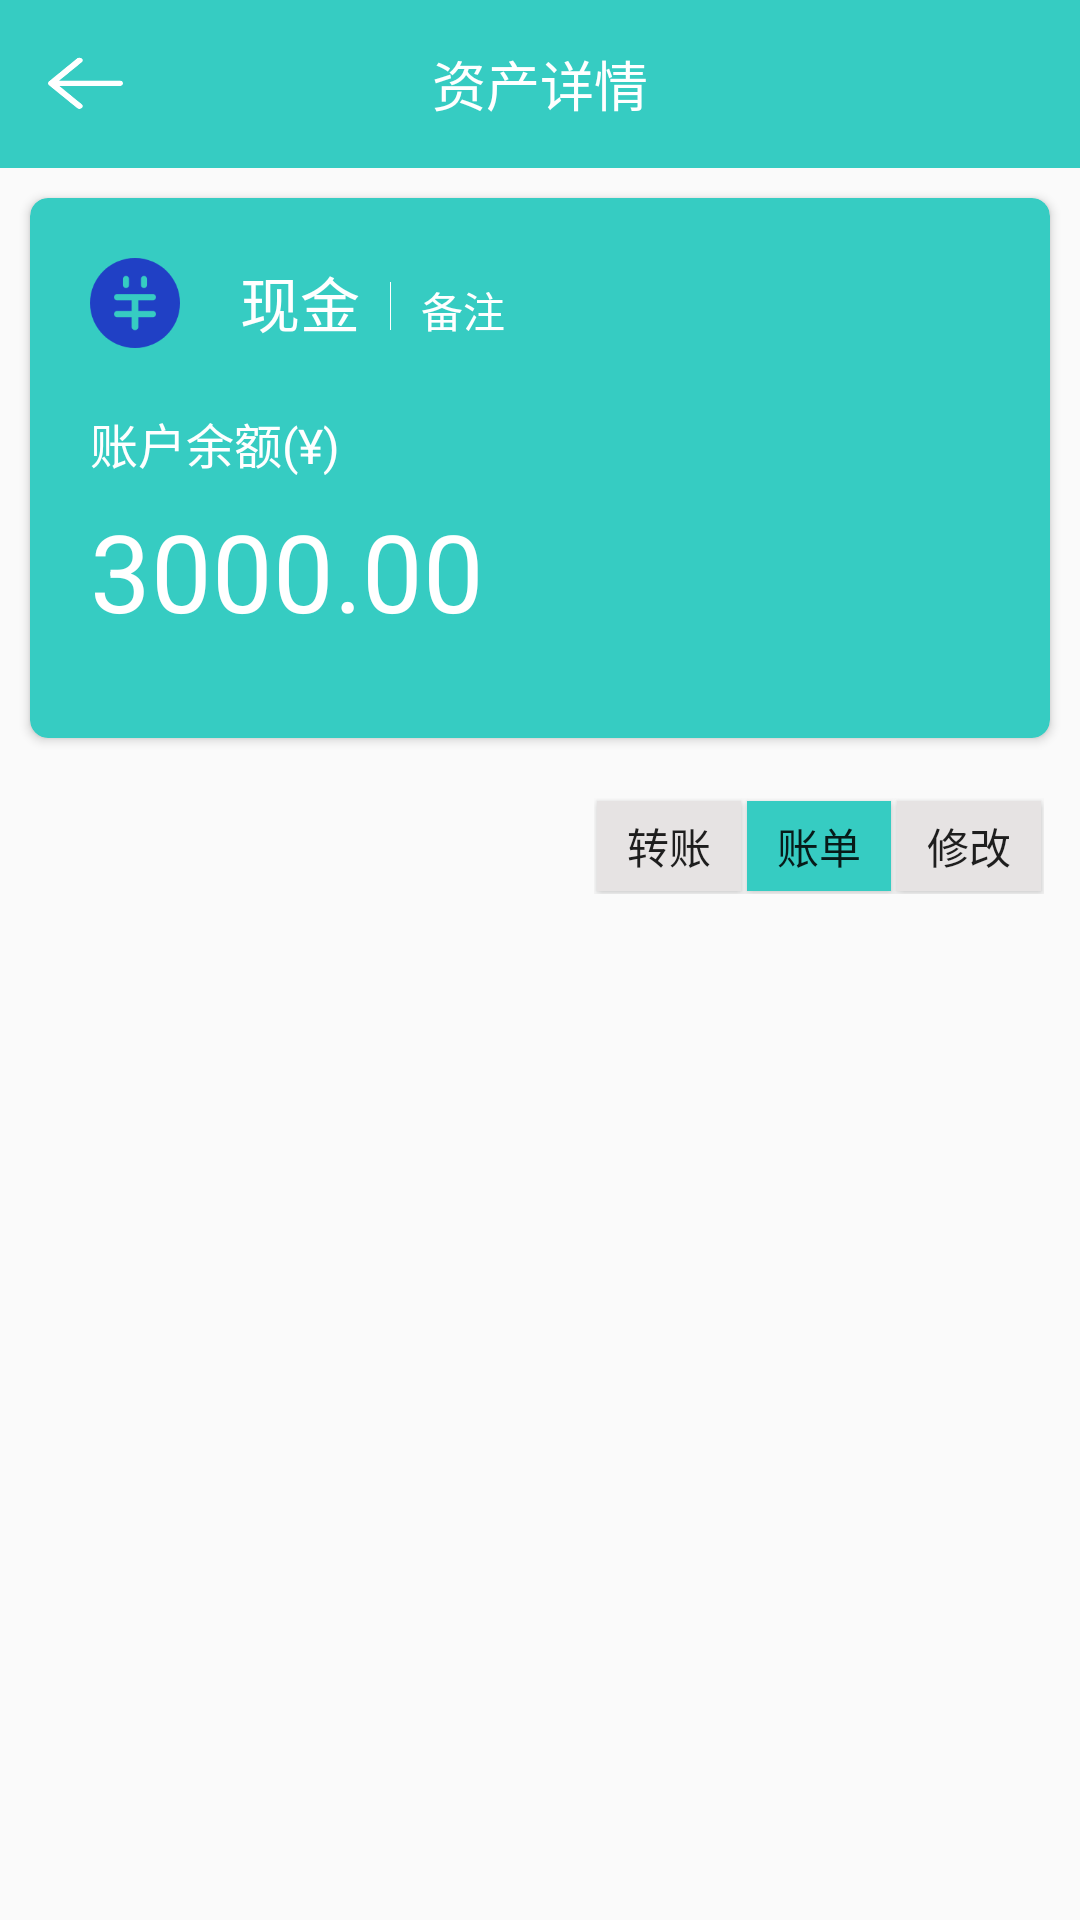

Screen size 1080 × 1920. Icon name, then its center in pixels as point (x, y):
assets cash: point (135, 303)
pre: point (85, 83)
